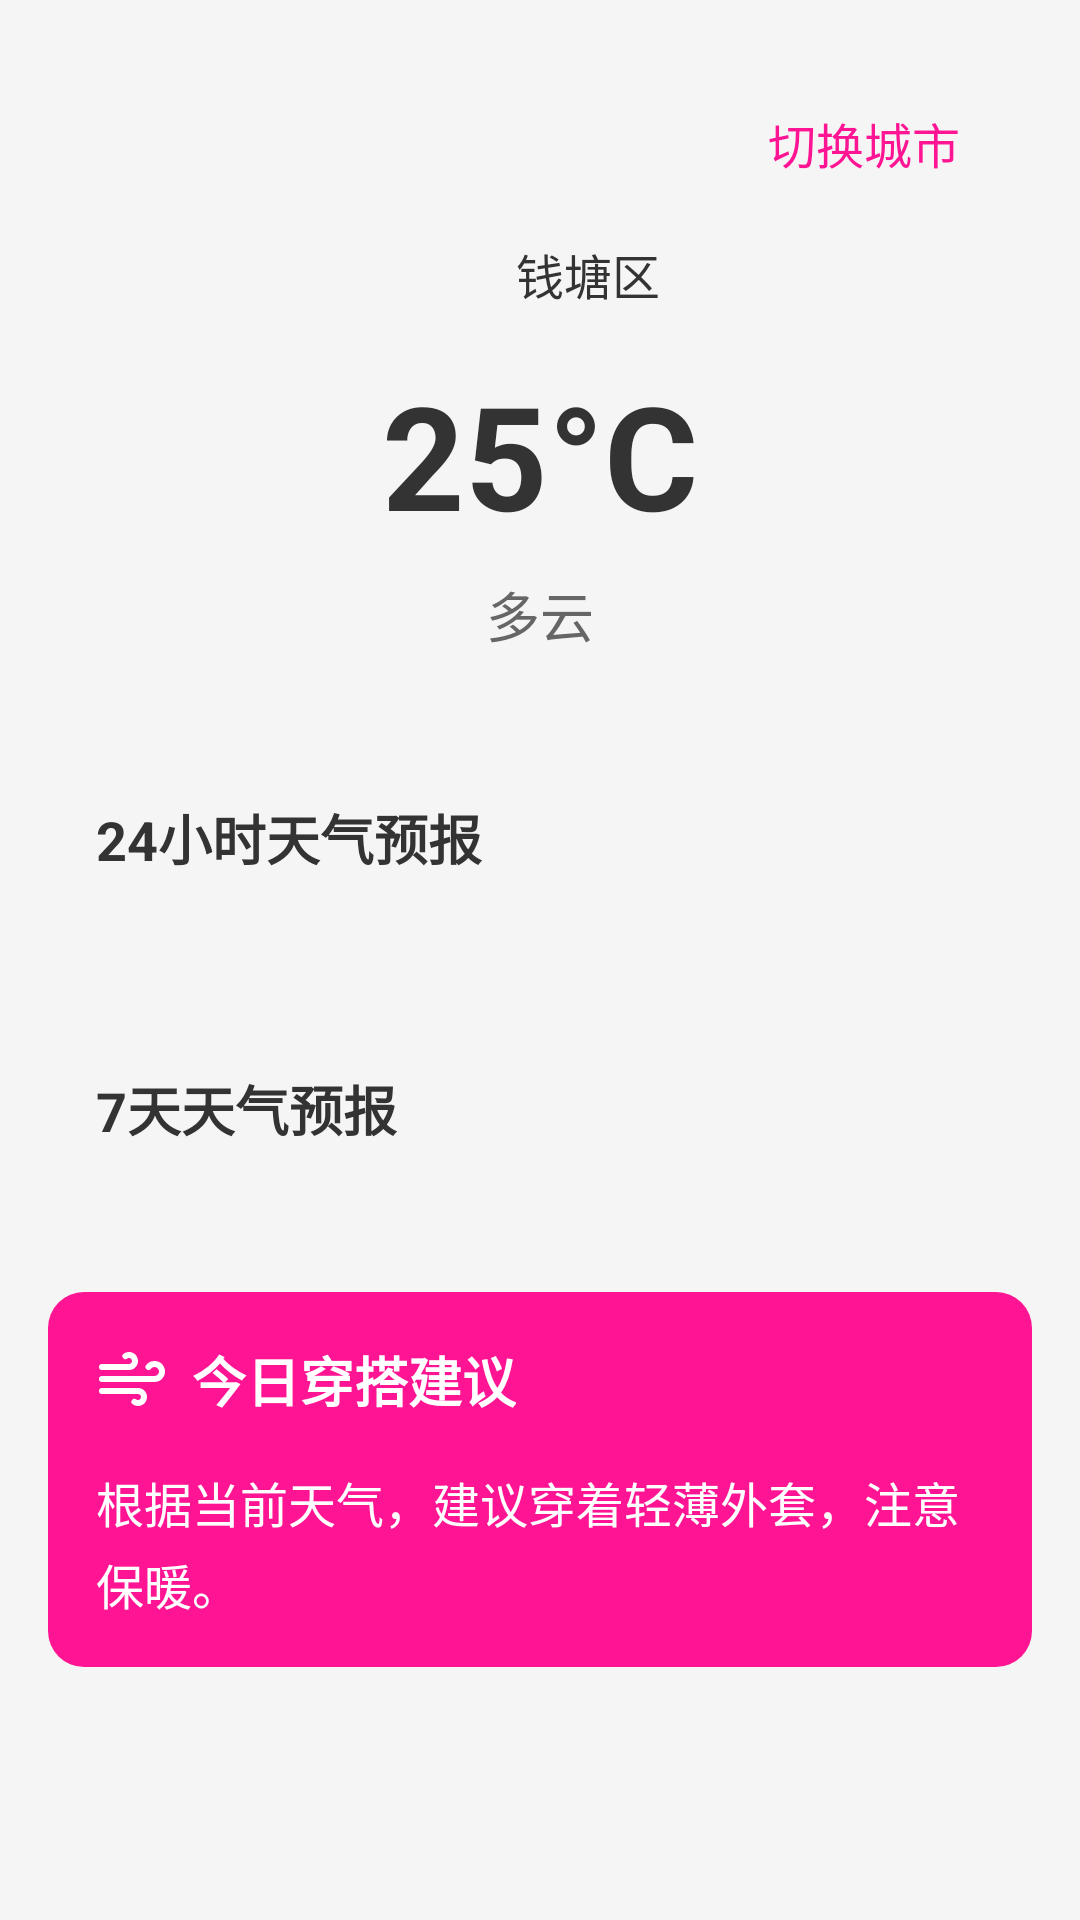

Icon bounding boxes for this 1080 × 1920 phone screenshot, format (left=x1, top=y1, right=x2, bottom=y2):
weather suggestion: (left=99, top=1352, right=165, bottom=1406)
